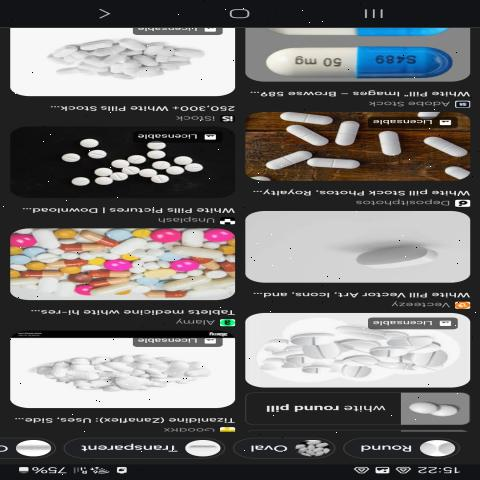Pill: (339, 240, 444, 272), (262, 123, 327, 149), (294, 151, 364, 175), (400, 398, 462, 425), (412, 131, 466, 161), (368, 124, 409, 163), (256, 149, 314, 171), (322, 118, 360, 150), (59, 137, 104, 154), (57, 144, 80, 166)
